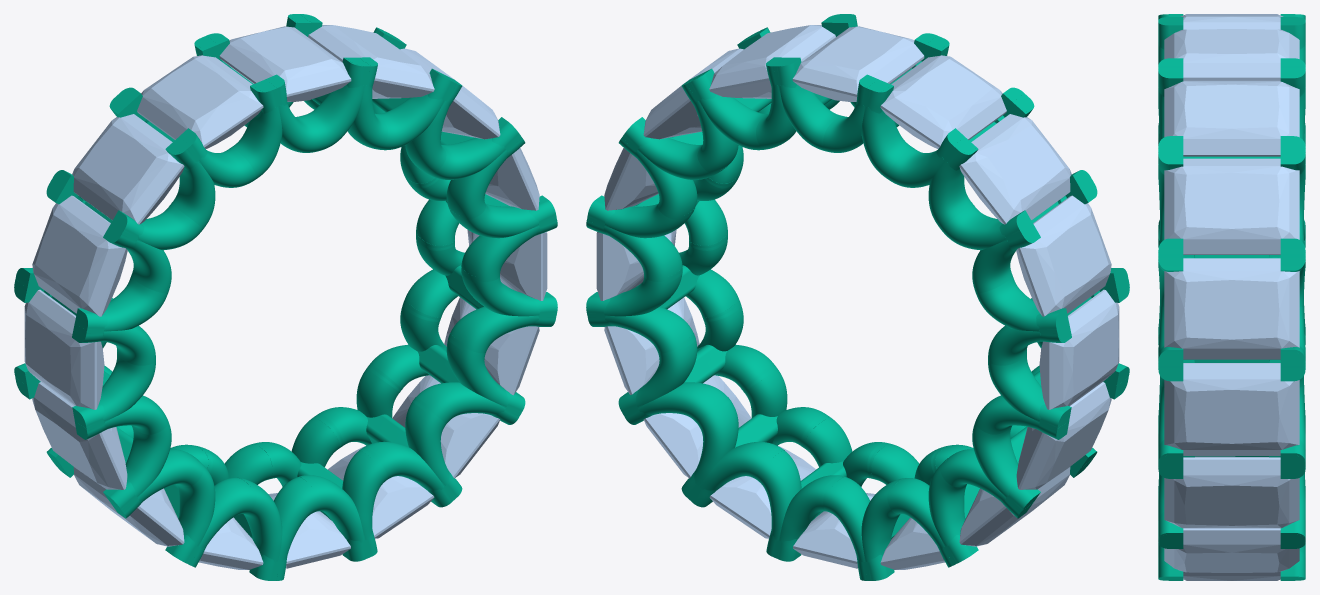
3 views of the same model, side by side, from view 1: azimuth 30°, elevation 25°; view 2: azimuth 150°, elevation 25°; view 3: azimuth 270°, elevation 25° (orthographic). The views are drawn at different scales.
Visible parts, largest first — view 1: (6-4.50)RADENT BAND(front).3dm, Diamond_Radiant (×16); view 2: (6-4.50)RADENT BAND(front).3dm, Diamond_Radiant (×16); view 3: Diamond_Radiant (×9), (6-4.50)RADENT BAND(front).3dm.
Part boxes in pixels (left/top/right/bottom): (6-4.50)RADENT BAND(front).3dm: left=14, top=14, right=557, bottom=580; Diamond_Radiant (×16): left=24, top=25, right=547, bottom=569; (6-4.50)RADENT BAND(front).3dm: left=586, top=14, right=1129, bottom=580; Diamond_Radiant (×16): left=596, top=25, right=1119, bottom=569; Diamond_Radiant (×9): left=1164, top=14, right=1299, bottom=580; (6-4.50)RADENT BAND(front).3dm: left=1158, top=14, right=1305, bottom=580.
Size of the model in its own units: 2.78 by 2.78 by 0.7267.
